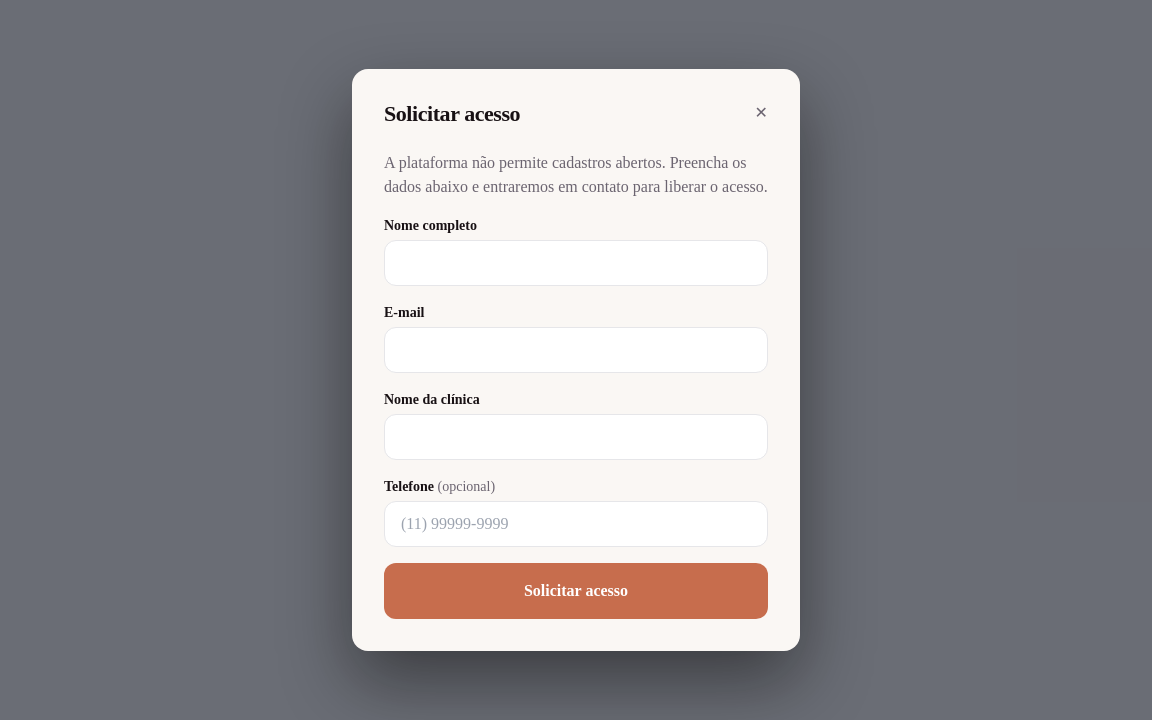
Test case: AccessRequestModal (integration) › masks the phone number as the user types
Type "11999998888" into the field labelled "Telefone (opcional)". click: [576, 524]
box: [384,501,768,547]
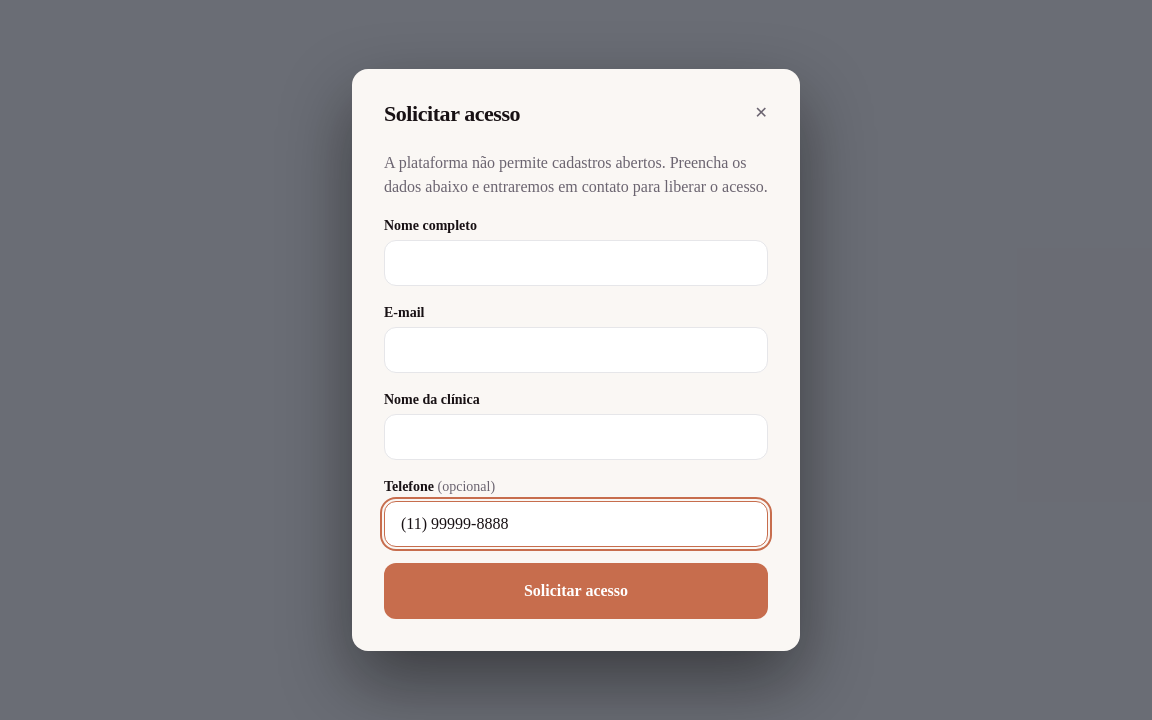
expect the field labelled "Telefone (opcional)" holds "(11) 99999-8888": met, box [384,501,768,547]
